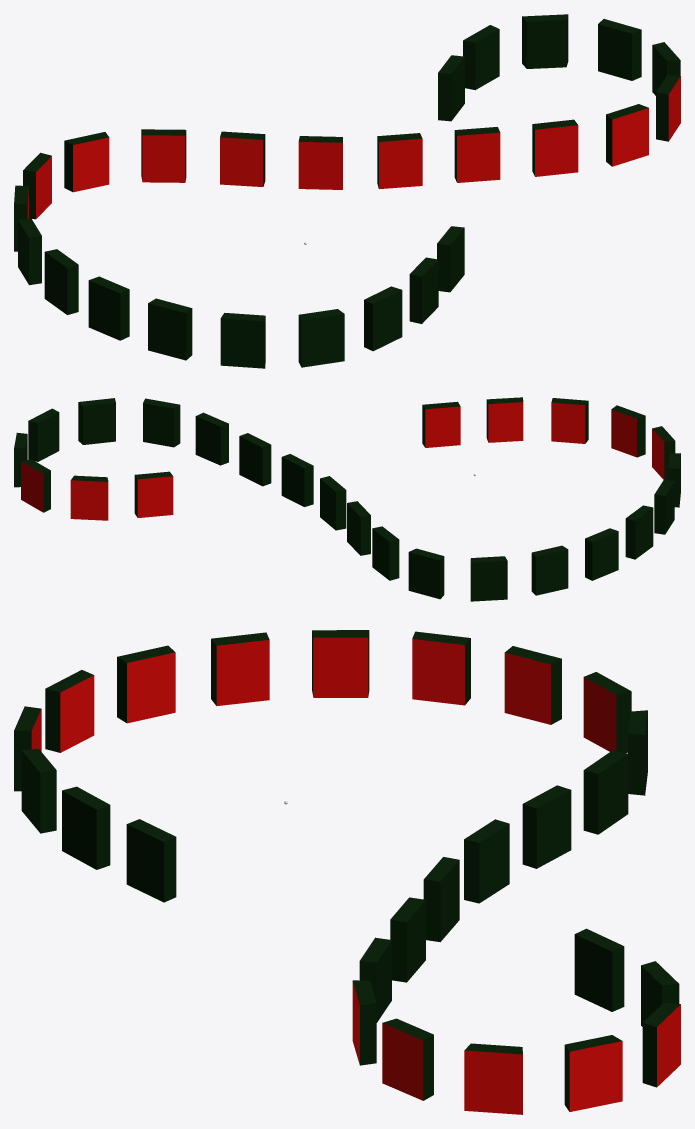
The model's file is place03.gltf.
3 views of the same model, one above another, from view 1: azimuth 30°, elevation 25°; view 2: azimuth 150°, elevation 25°; view 3: azimuth 270°, elevation 25° (orthographic). The views are drawn at different scales.
Visible parts, largest first — view 1: Cube; view 2: Cube; view 3: Cube.
Part boxes in pixels (bbox=[...]): Cube: bbox=[14, 14, 680, 368]; Cube: bbox=[14, 397, 680, 601]; Cube: bbox=[14, 630, 680, 1114].
Bounding box in the file's own units: 567 × 37.65 × 377.
